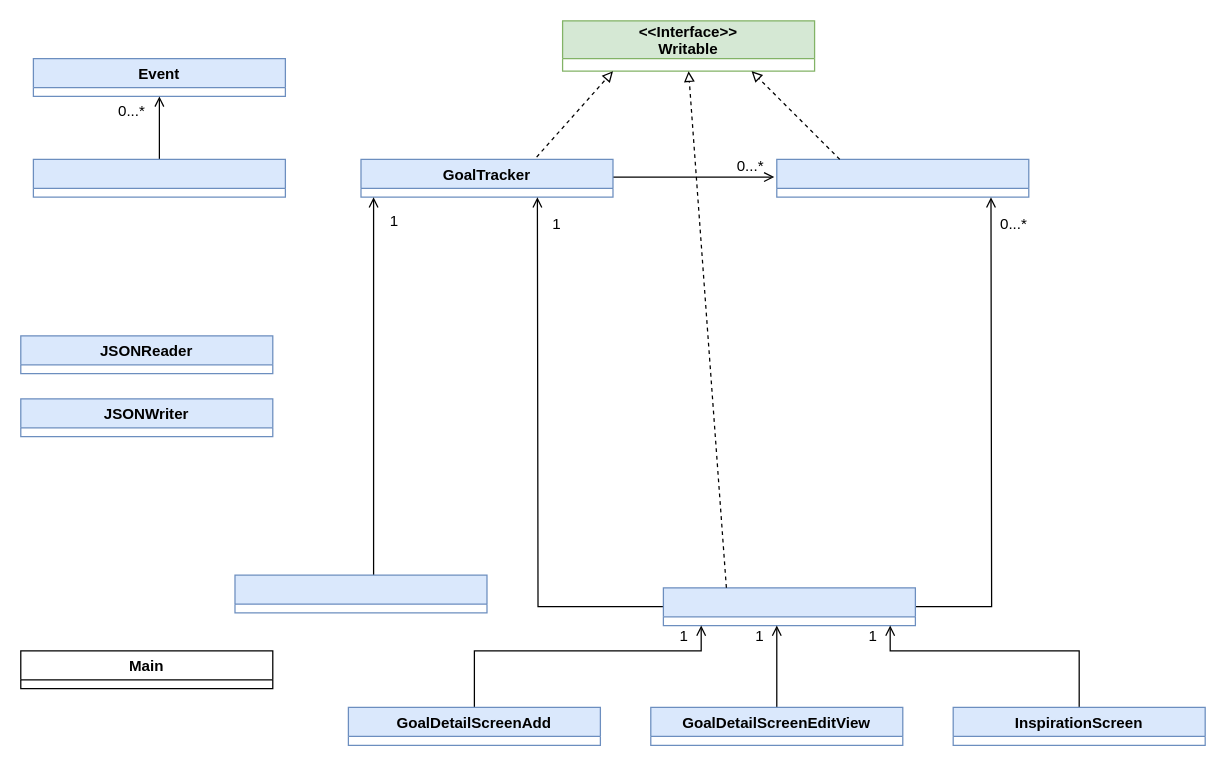
Image size: 1226x766. Some labels were removed from this diagram. The box of each missing label's shape, as (x1, y1, x2, y2) in pixels:
EventLog: (32, 158, 285, 197)
Goal: (776, 158, 1029, 197)
GoalTrackerApp: (234, 574, 487, 613)
GoalTrackerScreen: (662, 587, 915, 626)
